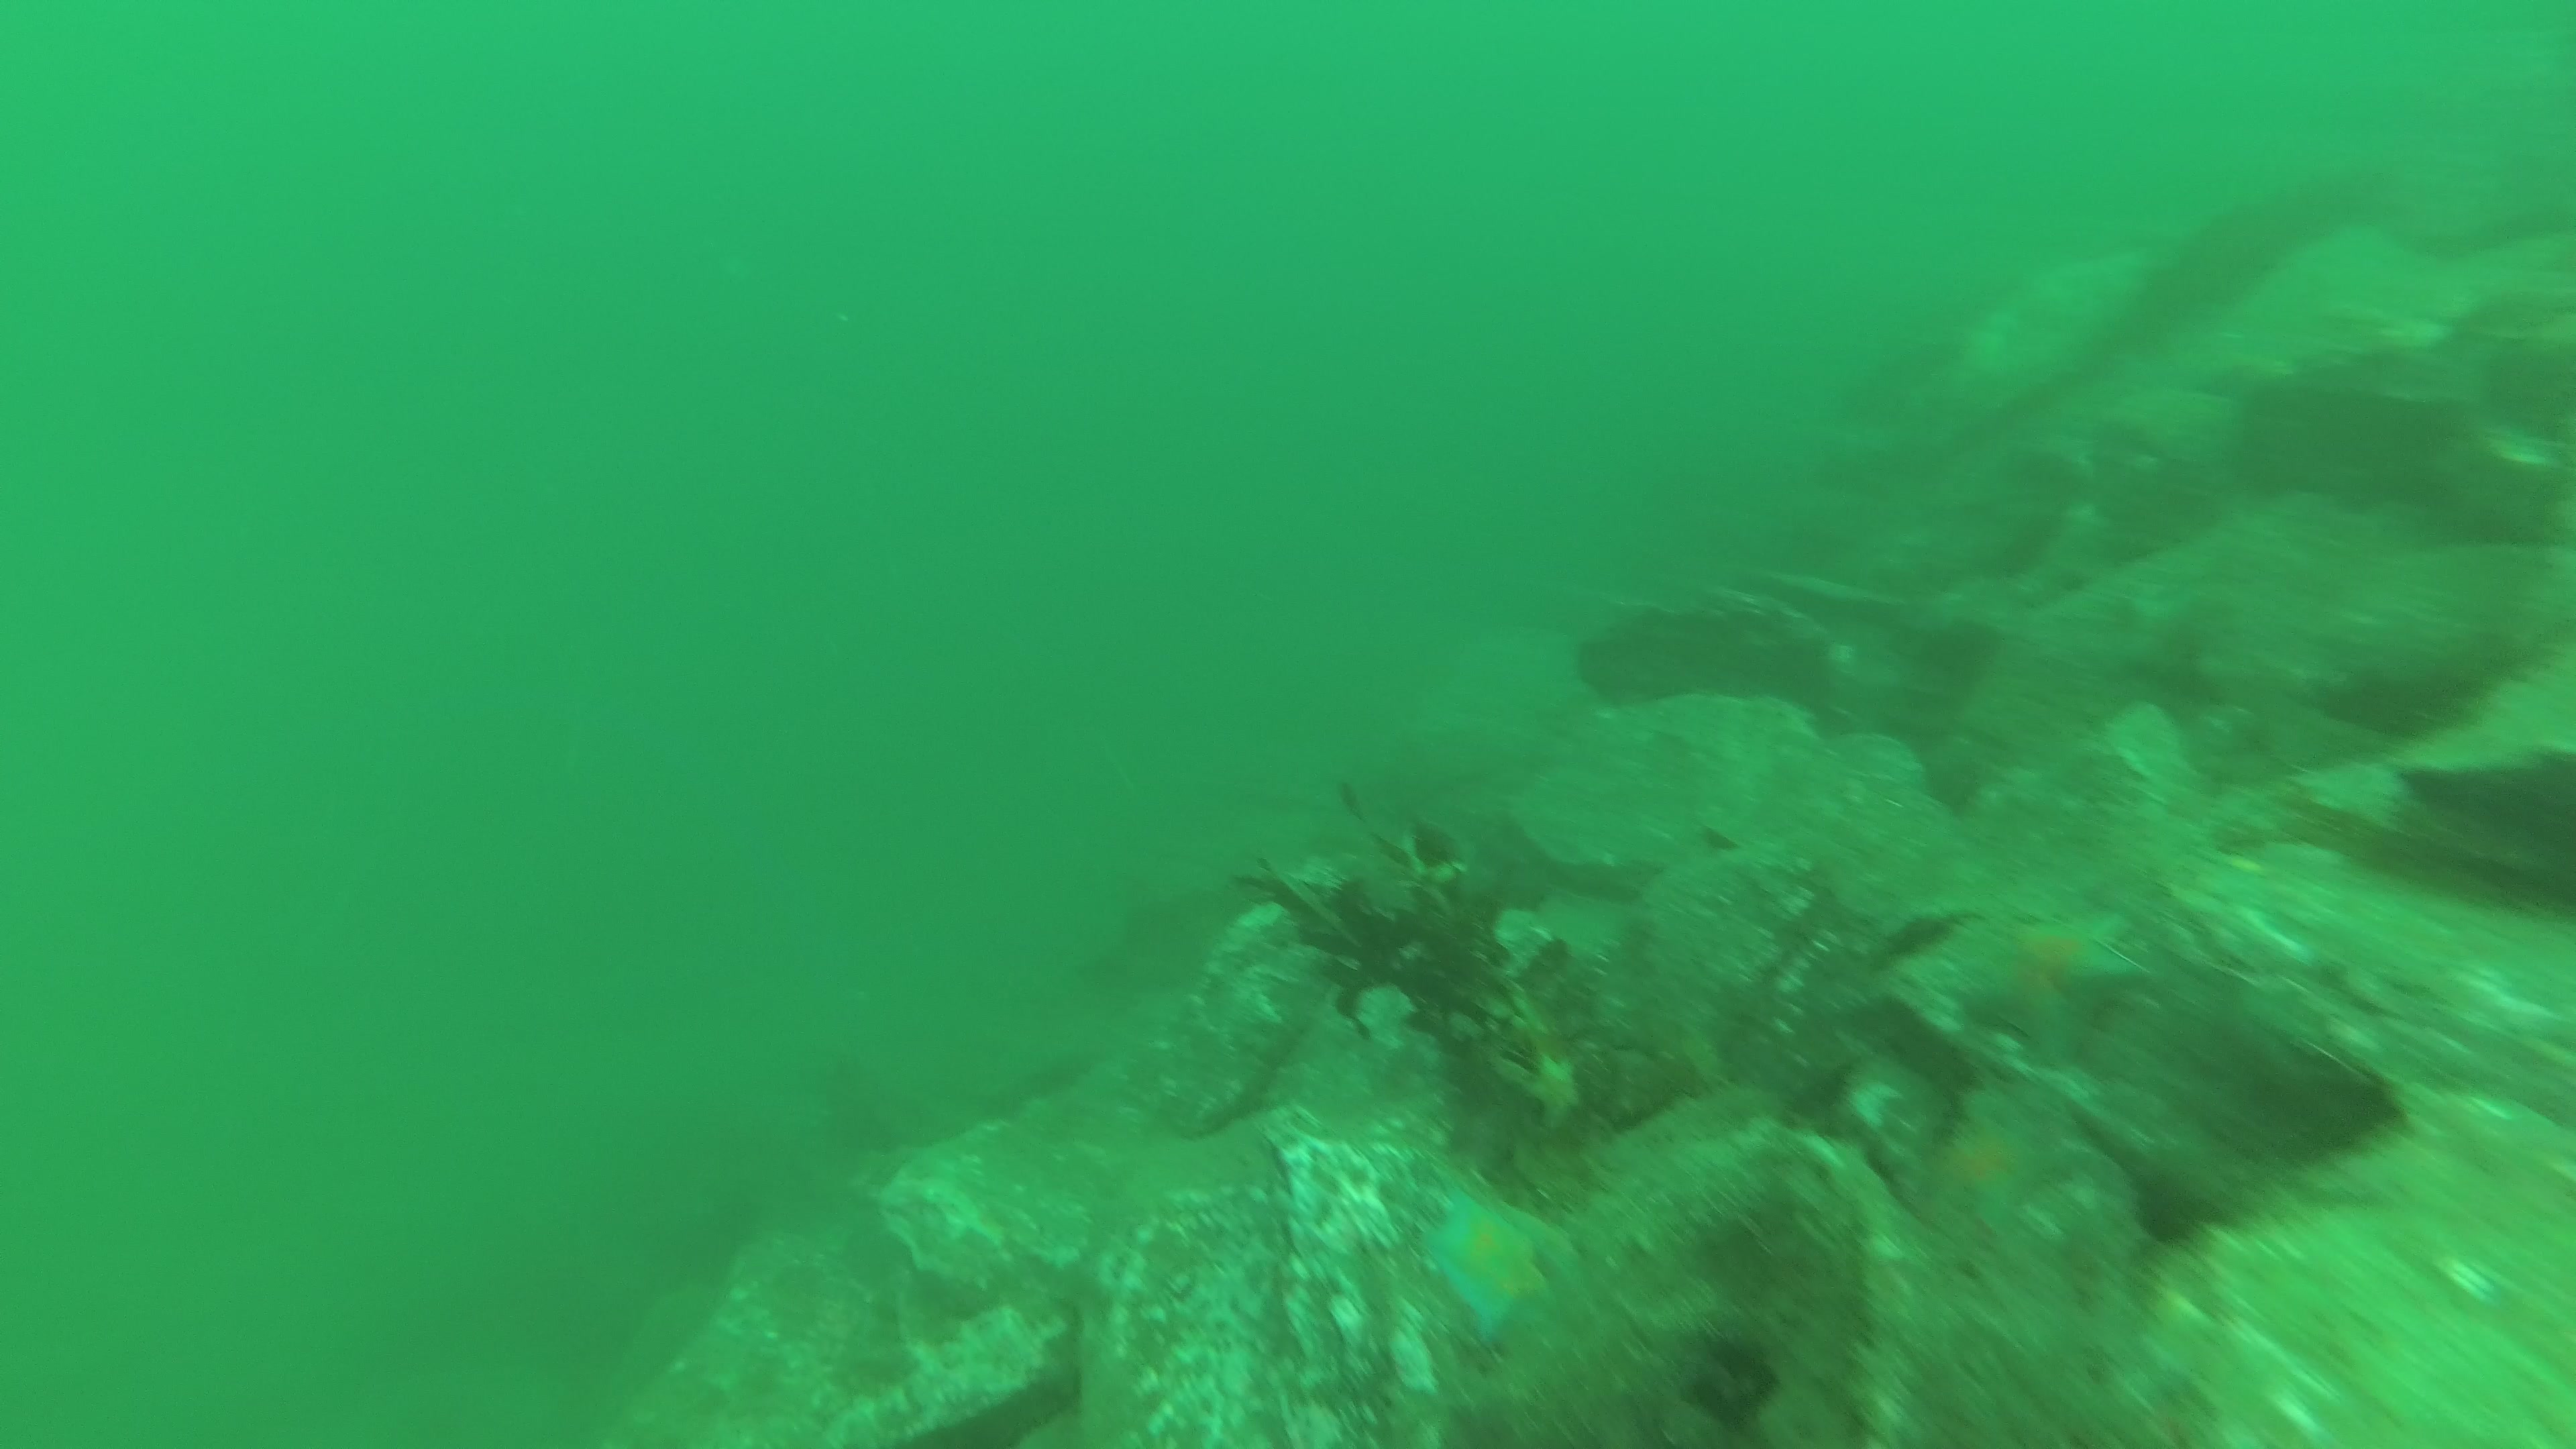starfish: (1914, 1102, 2072, 1238), (1421, 1194, 1562, 1336), (1999, 915, 2155, 1028)
